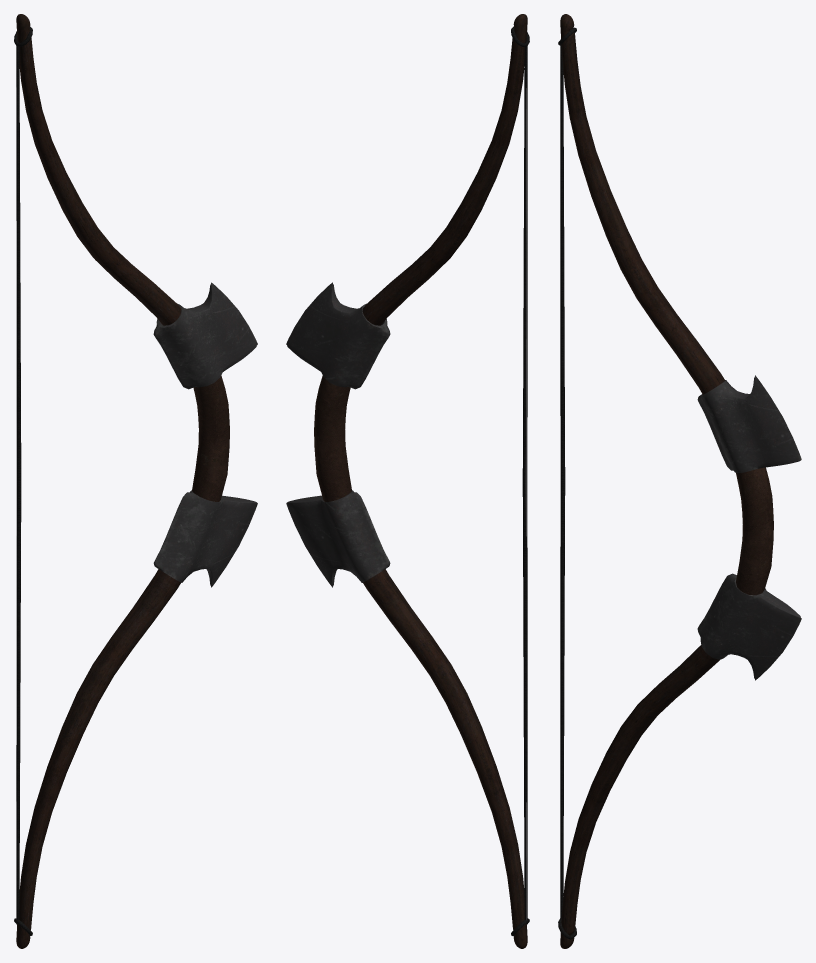
The model's file is wm_isengard_bow_a02.fbx.
The picture shows the model from 3 angles, left to right: view 1: azimuth 30°, elevation 25°; view 2: azimuth 150°, elevation 25°; view 3: azimuth 330°, elevation 25°; orthographic projection.
Parts seen in each view (by area): view 1: wm_isengard_bow_a02; view 2: wm_isengard_bow_a02; view 3: wm_isengard_bow_a02.
Boxes of the visible parts, x1,y1,x2,y2 form: wm_isengard_bow_a02: (14,14,257,948); wm_isengard_bow_a02: (286,14,529,948); wm_isengard_bow_a02: (558,14,801,948).
Size of the model in its own units: 0.3557 by 0.0441 by 1.31.
Materials: 1 (1 with a texture image).
